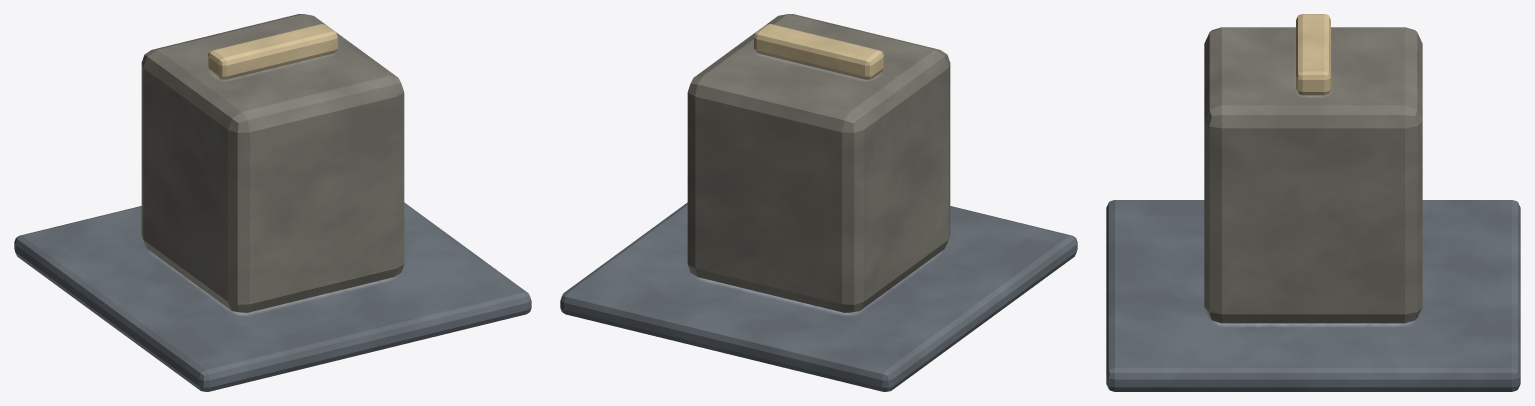
The model's file is com_wall_post.glb.
3 renders of one model, left to right at view 1: azimuth 30°, elevation 25°; view 2: azimuth 150°, elevation 25°; view 3: azimuth 270°, elevation 25°, orthographic. The views are drawn at different scales.
Visible parts, largest first — view 1: com_wall_post; view 2: com_wall_post; view 3: com_wall_post.
Boxes of the visible parts, <box> form: com_wall_post: <box>14,14,531,391</box>; com_wall_post: <box>560,14,1077,391</box>; com_wall_post: <box>1106,14,1520,391</box>.
Size of the model in its own units: 0.95 by 0.67 by 0.95.
1 material, 1 textured.
